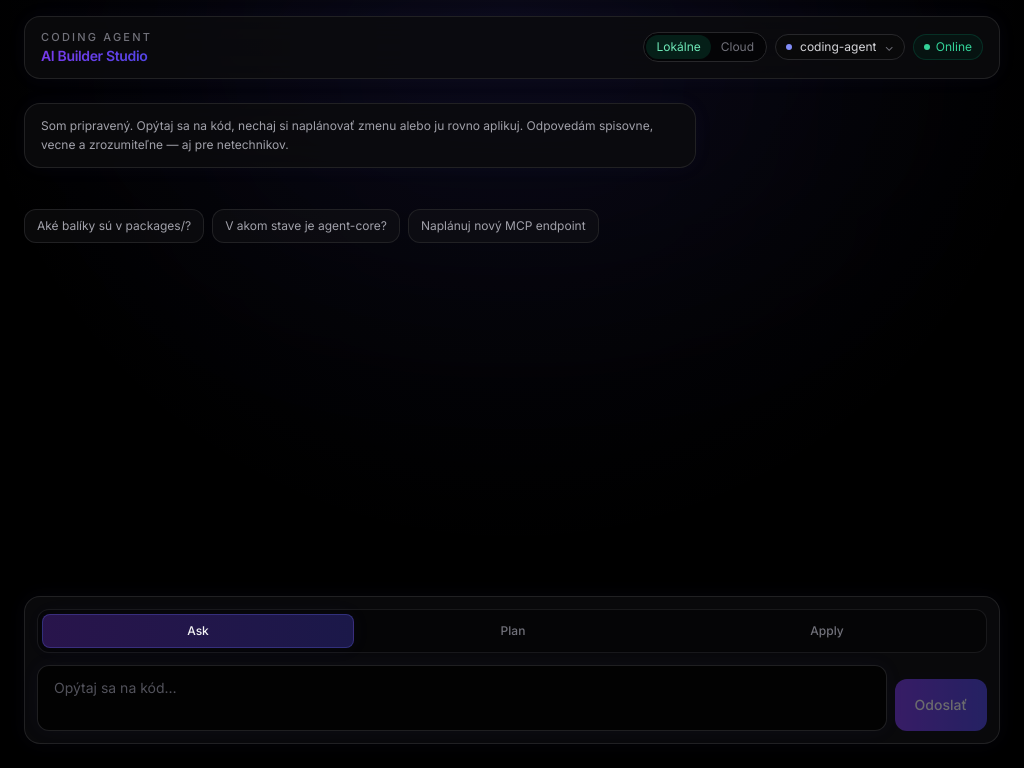
Test: ChatApp › shows error bubble when chat request fails
This screenshot has width=1024, height=768.
Expected: the text "Som pripravený" is shown, [41,118,656,152]
Type "Test" into the text box with placeholder "Opýtaj sa na kód…" at {"x": 462, "y": 698}, box [37,665,887,731]
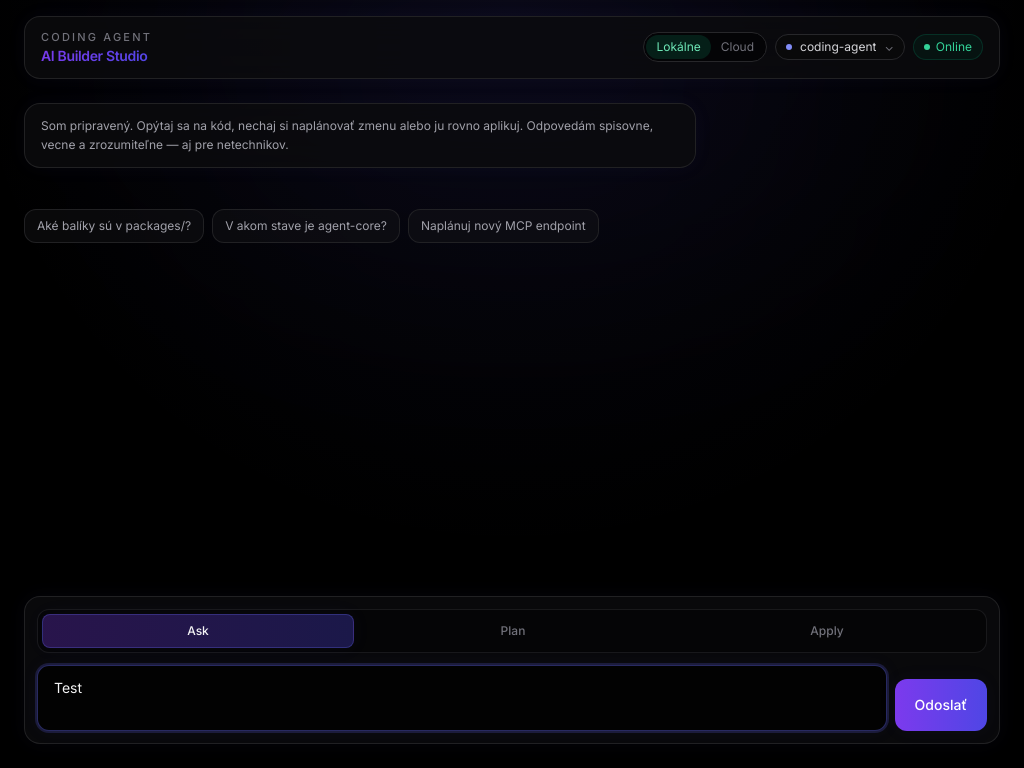
Click the button "Odoslať" at {"x": 941, "y": 705}, box [895,679,987,731]
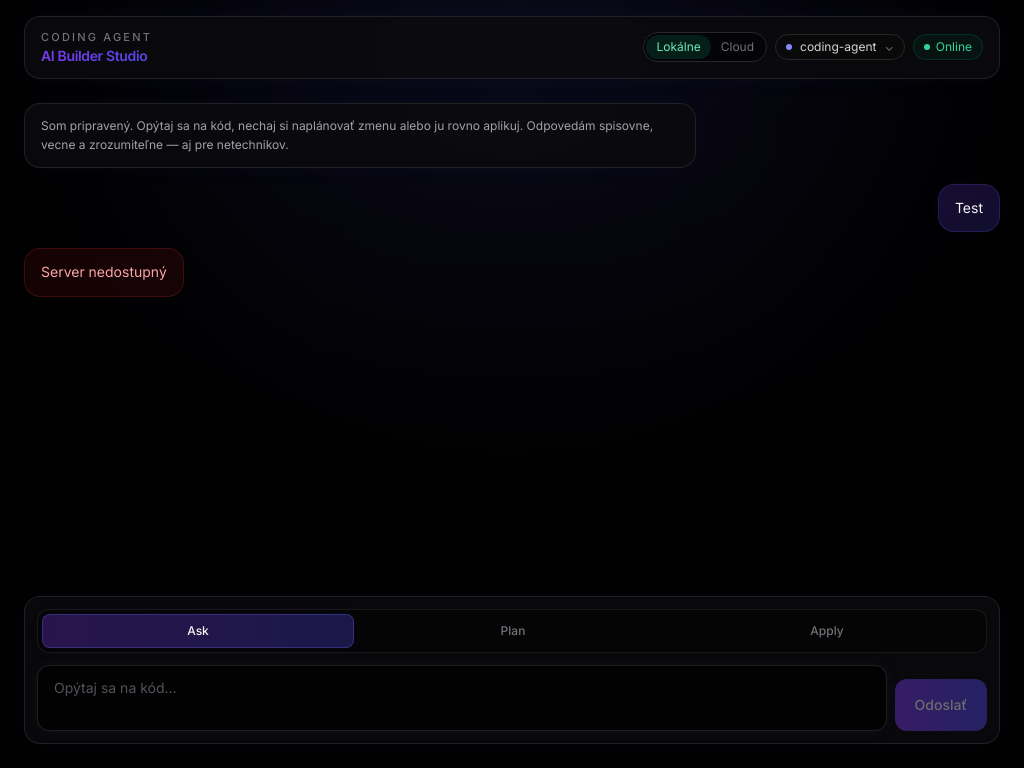
Expected: the text "Server nedostupný" is shown, [41,261,167,284]
